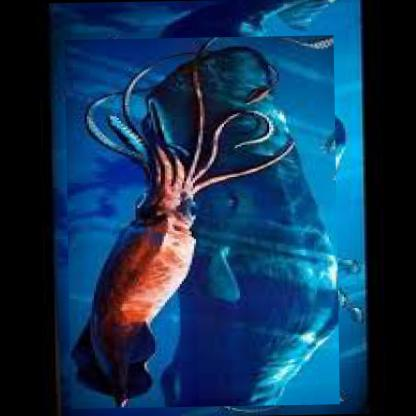colossal_squid: (62, 34, 338, 408)
